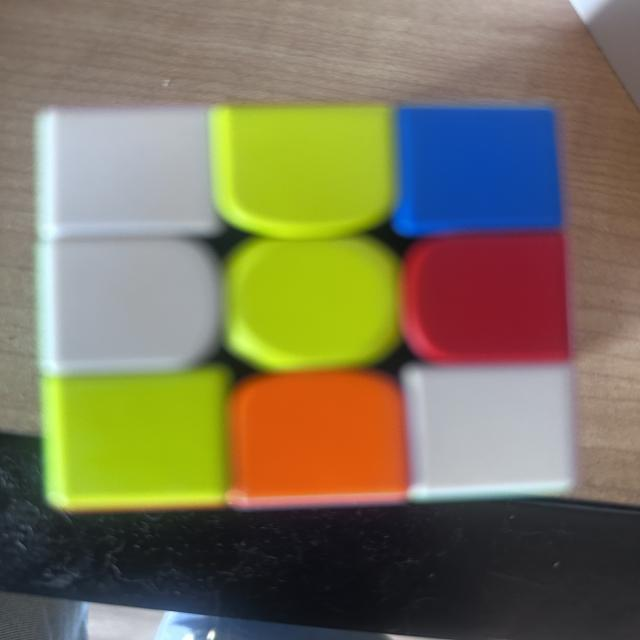sticker: (43, 367, 238, 517), (36, 236, 226, 376), (227, 369, 411, 513), (210, 104, 400, 240), (401, 362, 575, 506), (35, 106, 220, 240), (225, 238, 405, 370), (394, 107, 561, 240), (400, 236, 570, 365)
